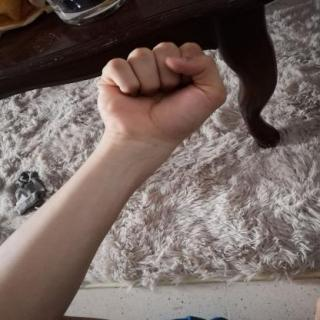SAD: (85, 34, 237, 152)
